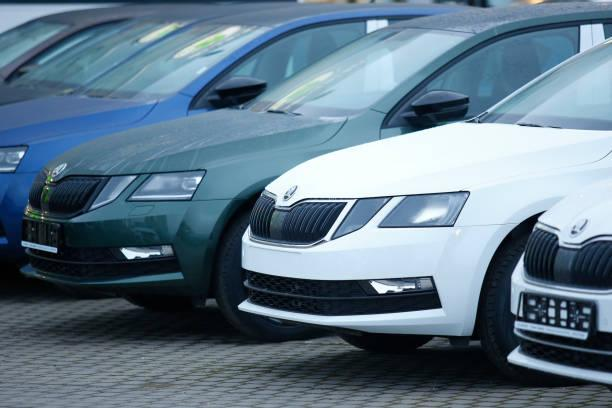skoda: (560, 214, 601, 245), (275, 179, 307, 206), (44, 159, 73, 183)
